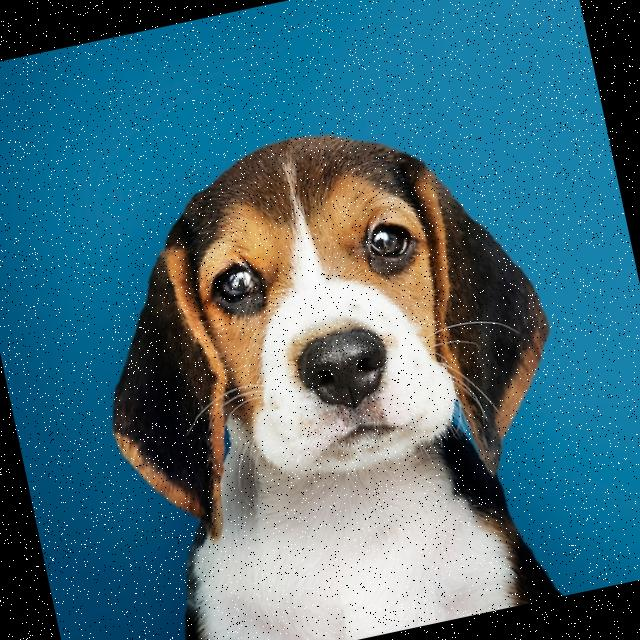Dog: (63, 94, 605, 640)
